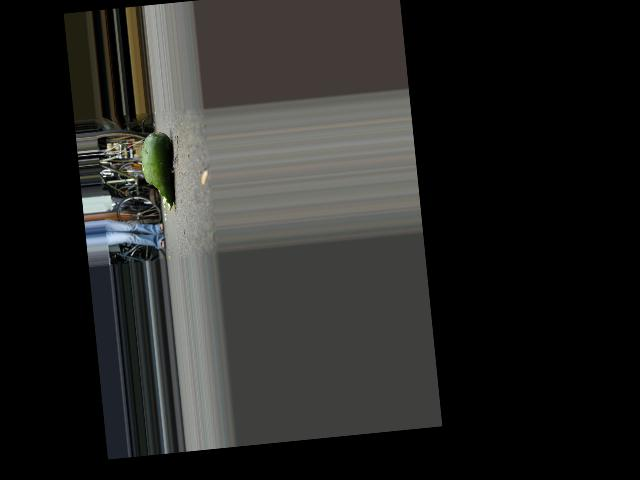cucumber: (139, 131, 178, 214)
